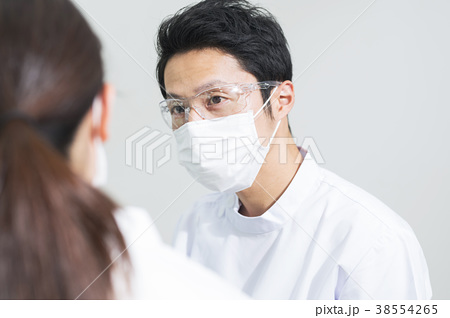mask: (167, 120, 261, 187)
